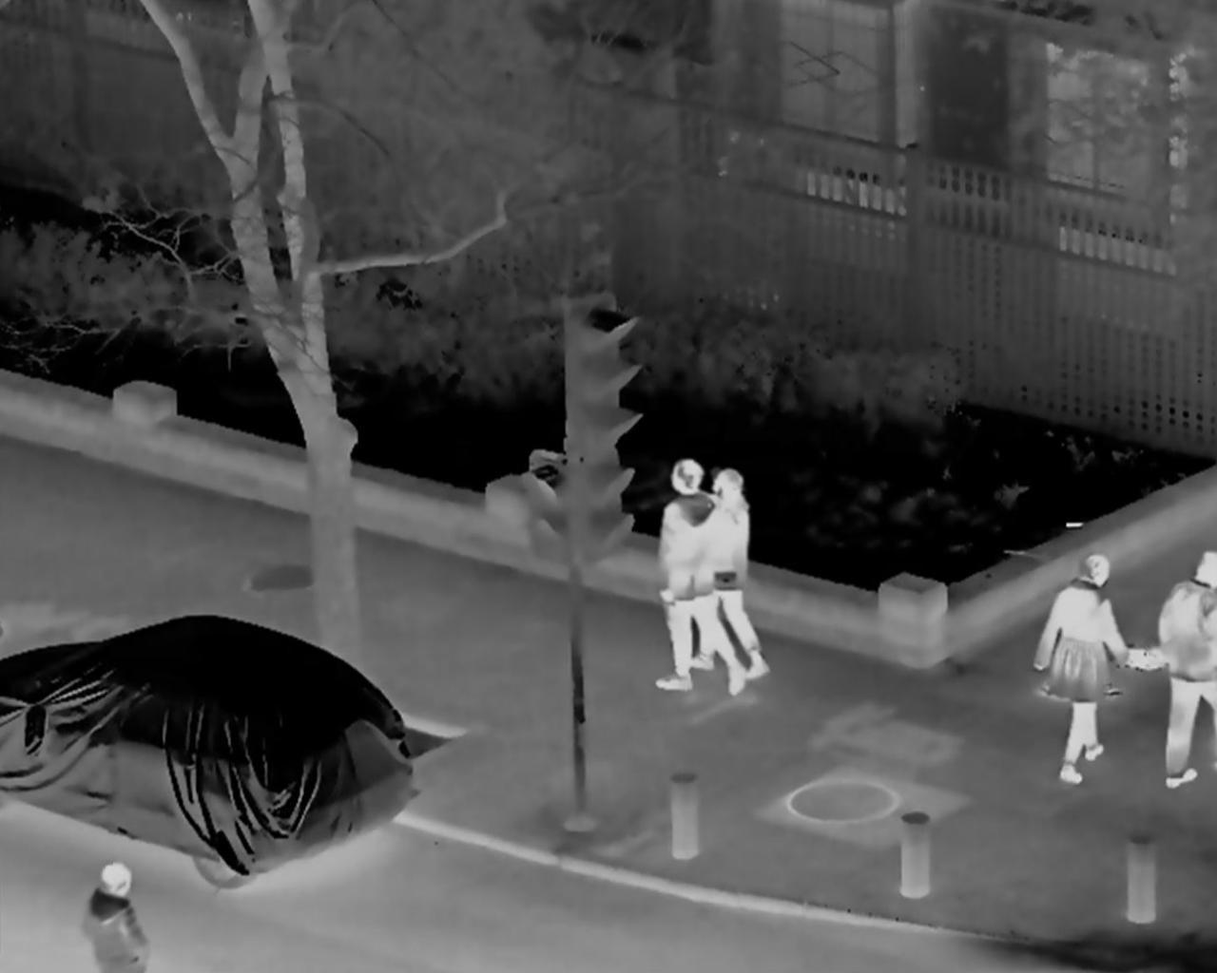person: (657, 460, 744, 696), (687, 468, 776, 679), (1140, 540, 1217, 777), (1042, 556, 1119, 784), (78, 865, 147, 973)
